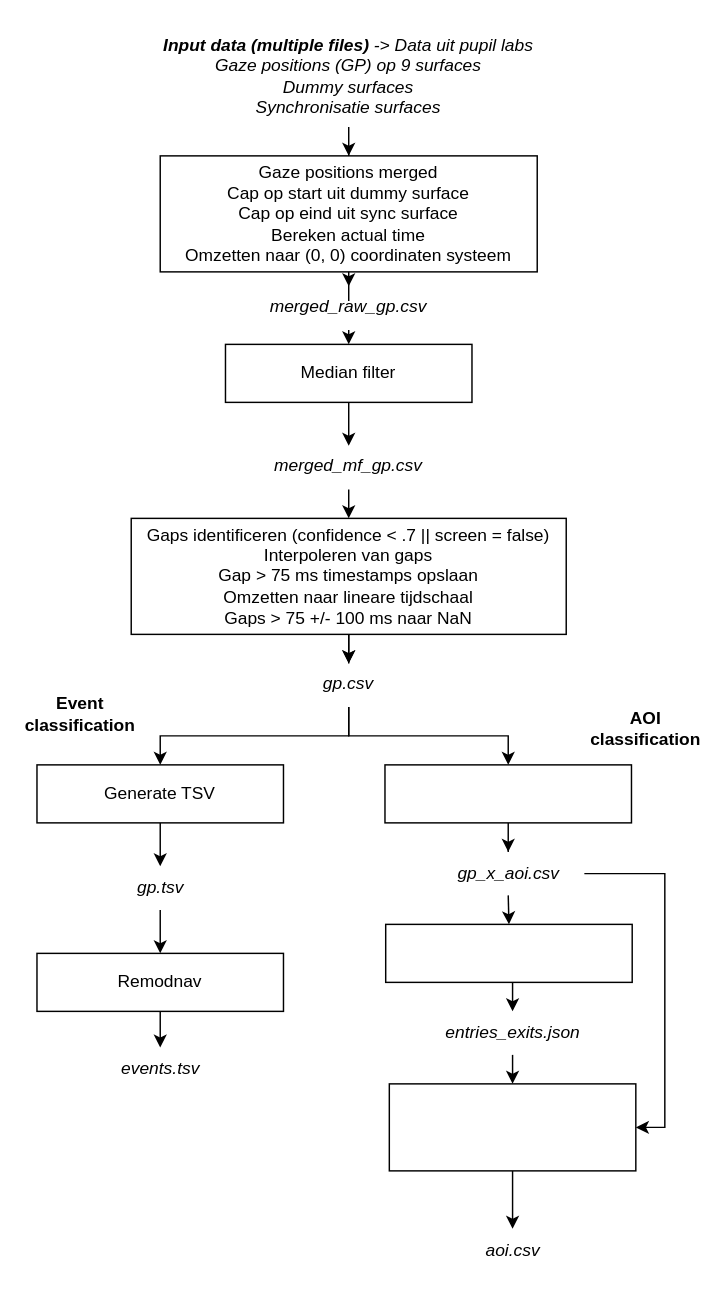
Image size: 725x1296. Some labels were removed from this diagram. The centre of each missing label's shape, as x and y in pixels:
"Generate output calculate first entry time, dwell time, etc." belongs at (x=512, y=1126).
"Identify AOI hits (GP within AOI)" belongs at (x=507, y=793).
"Identify entries & exits" belongs at (x=508, y=952).
